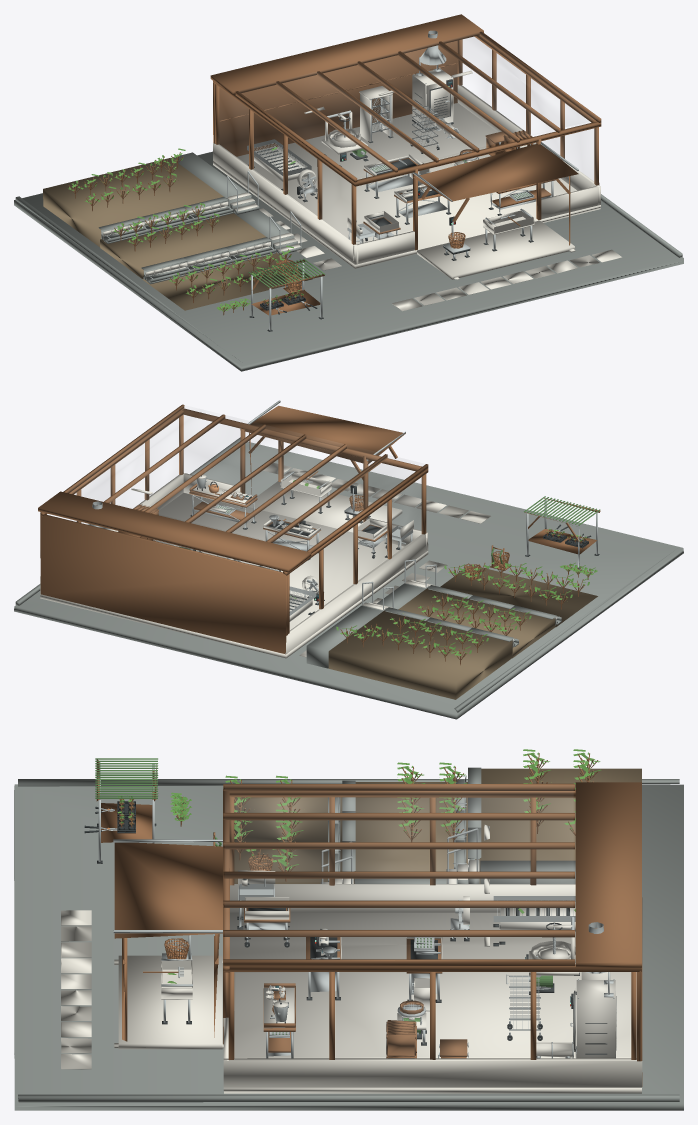
The model's file is jardin-the.glb.
3 renders of one model, top to bottom at view 1: azimuth 30°, elevation 25°; view 2: azimuth 150°, elevation 25°; view 3: azimuth 270°, elevation 25°, orthographic. The views are drawn at different scales.
Visible parts, largest first — view 1: 001-tea-garden-and-processing-house-roofed-processing-house/ (×3), 000-tea-garden-and-processing-house-tea-terrace-ground/0, 000-tea-garden-and-processing-house-tea-terrace-ground/1, 002-tea-garden-and-processing-house-covered-leaf-receiving-b (×2), 000-tea-garden-and-processing-house-tea-terrace-ground/2, 053-tea-garden-and-processing-house-drying-cabinet/1, 048-tea-garden-and-processing-house-withering-bed/0, 057-tea-garden-and-processing-house-oxidation-rack/2, 031-tea-garden-and-processing-house-nursery-shade-frame/3, 031-tea-garden-and-processing-house-nursery-shade-frame/2, 044-tea-garden-and-processing-house-receiving-leaf-trough/2, 049-tea-garden-and-processing-house-withering-air-plenum/2 (+4 smaller); view 2: 001-tea-garden-and-processing-house-roofed-processing-house/ (×3), 000-tea-garden-and-processing-house-tea-terrace-ground/0, 000-tea-garden-and-processing-house-tea-terrace-ground/1, 002-tea-garden-and-processing-house-covered-leaf-receiving-b (×2), 000-tea-garden-and-processing-house-tea-terrace-ground/2, 031-tea-garden-and-processing-house-nursery-shade-frame/3, 031-tea-garden-and-processing-house-nursery-shade-frame/2, 044-tea-garden-and-processing-house-receiving-leaf-trough/2, 075-tea-garden-and-processing-house-tasting-bench/2; view 3: 001-tea-garden-and-processing-house-roofed-processing-house/ (×3), 000-tea-garden-and-processing-house-tea-terrace-ground/0, 002-tea-garden-and-processing-house-covered-leaf-receiving-b (×3), 000-tea-garden-and-processing-house-tea-terrace-ground/1, 000-tea-garden-and-processing-house-tea-terrace-ground/2, 053-tea-garden-and-processing-house-drying-cabinet/1, 031-tea-garden-and-processing-house-nursery-shade-frame/3, 031-tea-garden-and-processing-house-nursery-shade-frame/2, 044-tea-garden-and-processing-house-receiving-leaf-trough/2, 056-tea-garden-and-processing-house-dryer-loading-trolley/1, 069-tea-garden-and-processing-house-shipping-tea-crate/0, 048-tea-garden-and-processing-house-withering-bed/0 (+9 smaller).
Part boxes in pixels (bbox=[...]): 001-tea-garden-and-processing-house-roofed-processing-house/ (×3): bbox=[210, 14, 601, 268]; 000-tea-garden-and-processing-house-tea-terrace-ground/0: bbox=[14, 151, 683, 371]; 000-tea-garden-and-processing-house-tea-terrace-ground/1: bbox=[43, 158, 312, 310]; 002-tea-garden-and-processing-house-covered-leaf-receiving-b (×2): bbox=[413, 144, 578, 279]; 000-tea-garden-and-processing-house-tea-terrace-ground/2: bbox=[255, 203, 622, 311]; 053-tea-garden-and-processing-house-drying-cabinet/1: bbox=[412, 68, 453, 127]; 048-tea-garden-and-processing-house-withering-bed/0: bbox=[247, 139, 311, 175]; 057-tea-garden-and-processing-house-oxidation-rack/2: bbox=[359, 86, 392, 141]; 031-tea-garden-and-processing-house-nursery-shade-frame/3: bbox=[248, 258, 325, 287]; 031-tea-garden-and-processing-house-nursery-shade-frame/2: bbox=[251, 260, 324, 315]; 044-tea-garden-and-processing-house-receiving-leaf-trough/2: bbox=[483, 209, 534, 234]; 049-tea-garden-and-processing-house-withering-air-plenum/2: bbox=[254, 146, 307, 181]; 001-tea-garden-and-processing-house-roofed-processing-house/ (×3): bbox=[38, 404, 428, 658]; 000-tea-garden-and-processing-house-tea-terrace-ground/0: bbox=[14, 437, 683, 719]; 000-tea-garden-and-processing-house-tea-terrace-ground/1: bbox=[328, 564, 597, 699]; 002-tea-garden-and-processing-house-covered-leaf-receiving-b (×2): bbox=[244, 405, 405, 532]; 000-tea-garden-and-processing-house-tea-terrace-ground/2: bbox=[263, 462, 490, 657]; 031-tea-garden-and-processing-house-nursery-shade-frame/3: bbox=[524, 496, 600, 525]; 031-tea-garden-and-processing-house-nursery-shade-frame/2: bbox=[525, 498, 600, 554]; 044-tea-garden-and-processing-house-receiving-leaf-trough/2: bbox=[280, 472, 331, 497]; 075-tea-garden-and-processing-house-tasting-bench/2: bbox=[189, 483, 257, 520]; 001-tea-garden-and-processing-house-roofed-processing-house/ (×3): bbox=[223, 782, 642, 1093]; 000-tea-garden-and-processing-house-tea-terrace-ground/0: bbox=[14, 779, 683, 1110]; 002-tea-garden-and-processing-house-covered-leaf-receiving-b (×3): bbox=[113, 839, 223, 1049]; 000-tea-garden-and-processing-house-tea-terrace-ground/1: bbox=[234, 768, 641, 883]; 000-tea-garden-and-processing-house-tea-terrace-ground/2: bbox=[61, 910, 91, 1069]; 053-tea-garden-and-processing-house-drying-cabinet/1: bbox=[573, 980, 615, 1058]; 031-tea-garden-and-processing-house-nursery-shade-frame/3: bbox=[95, 758, 158, 798]; 031-tea-garden-and-processing-house-nursery-shade-frame/2: bbox=[96, 759, 156, 842]; 044-tea-garden-and-processing-house-receiving-leaf-trough/2: bbox=[161, 959, 192, 999]; 056-tea-garden-and-processing-house-dryer-loading-trolley/1: bbox=[506, 974, 540, 1038]; 069-tea-garden-and-processing-house-shipping-tea-crate/0: bbox=[386, 1020, 416, 1056]; 048-tea-garden-and-processing-house-withering-bed/0: bbox=[493, 896, 575, 921].
Size of the model in its own units: 17.98 by 3.87 by 15.98.
